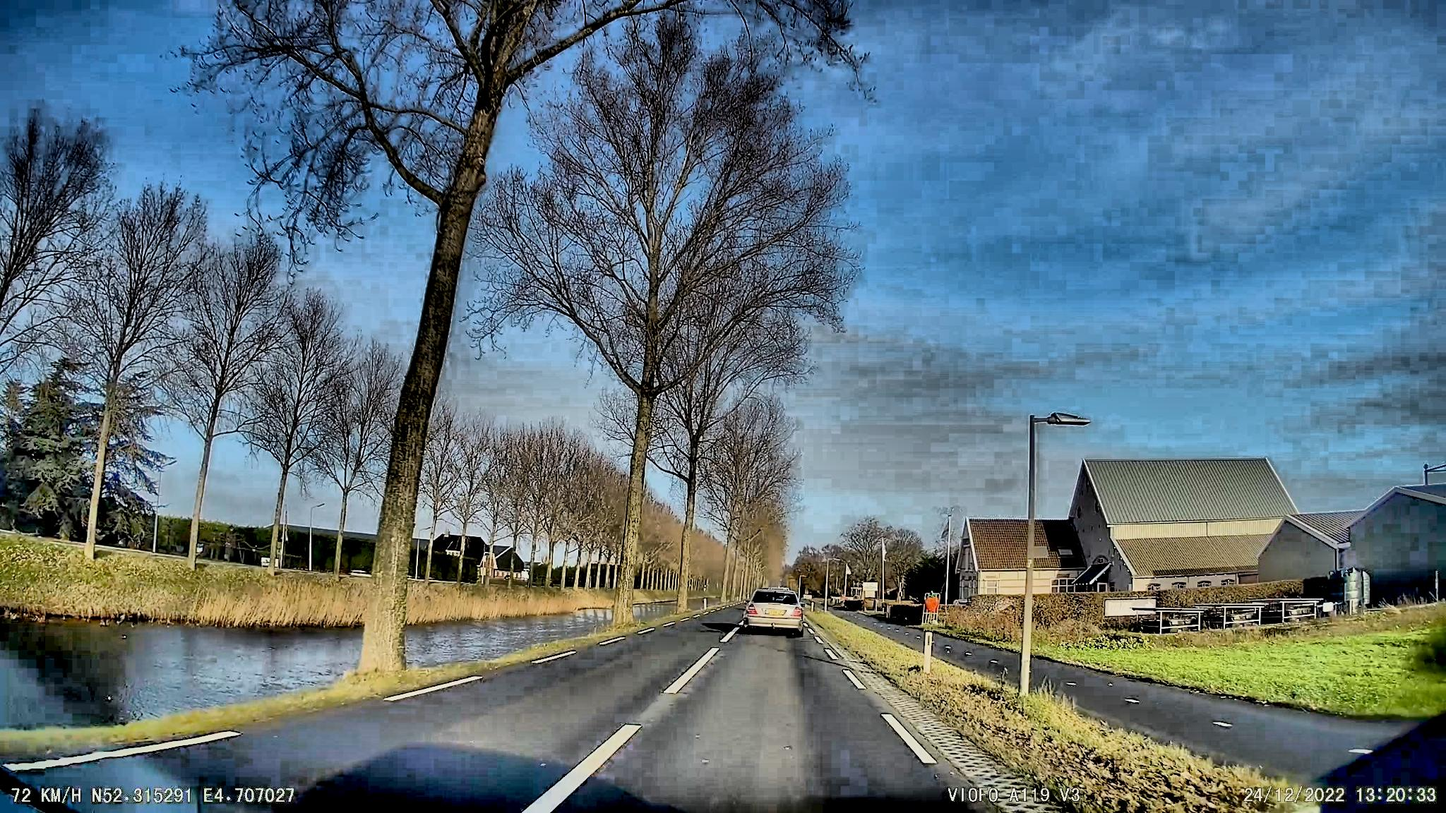Roads: (0, 613, 979, 813)
